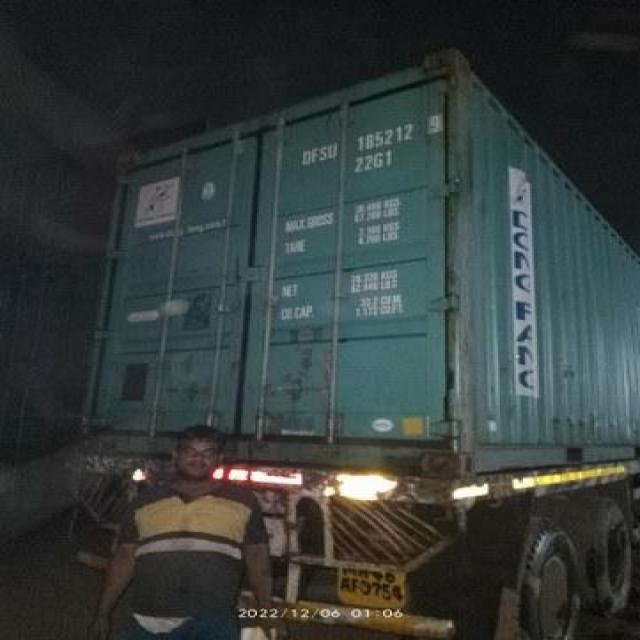ISO: (350, 148, 392, 172)
container_number: (297, 108, 449, 162)
